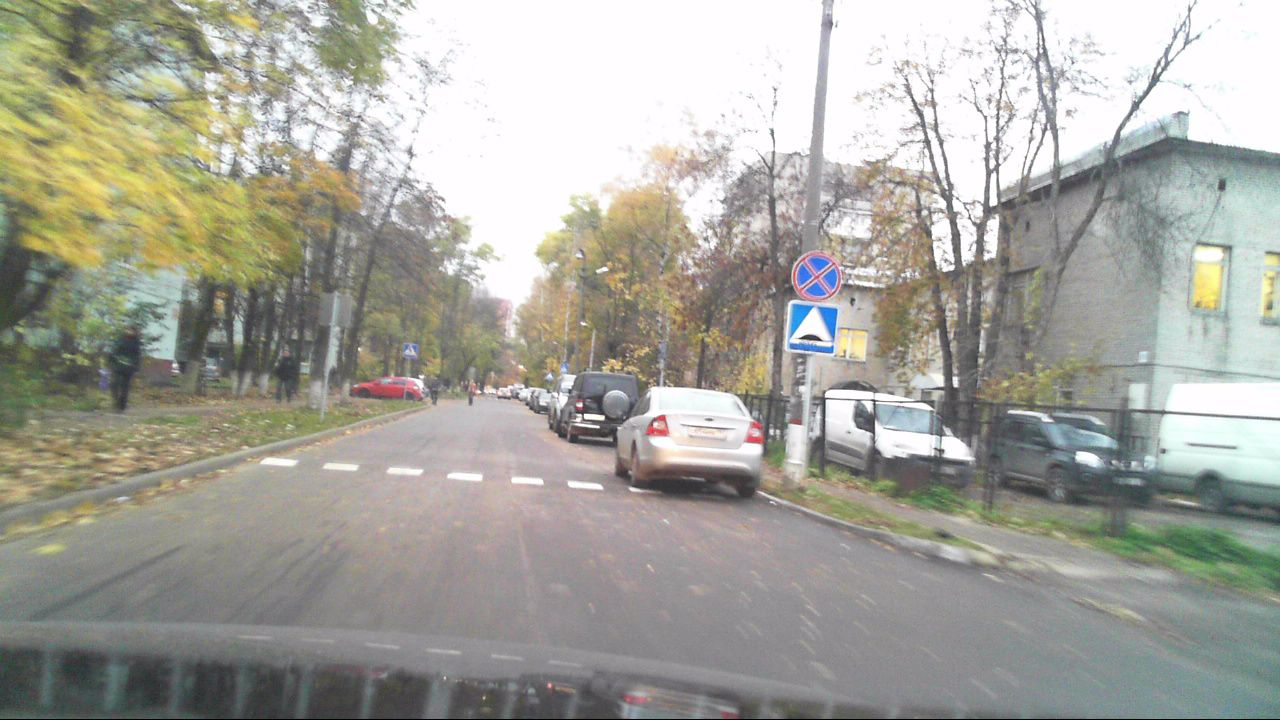No Parking: (791, 252, 840, 301)
